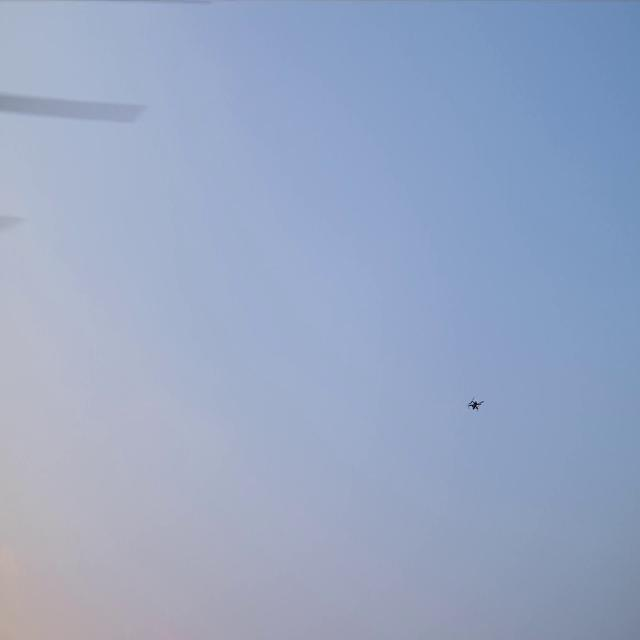UAV: (467, 395, 484, 412)
